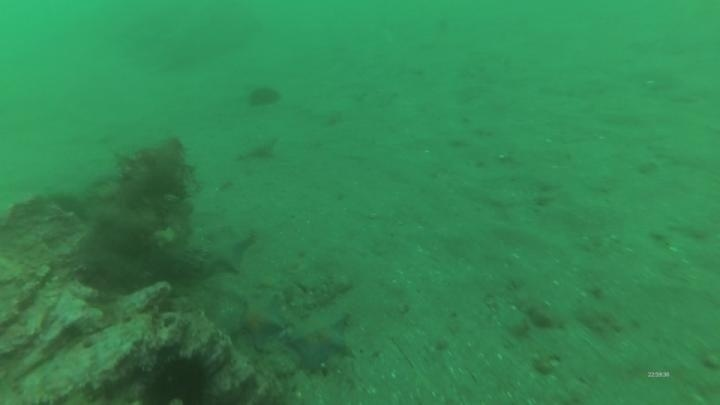echinus: (141, 348, 218, 405), (245, 82, 283, 111)
holothurian: (287, 271, 354, 312)
starfish: (283, 306, 356, 374), (233, 293, 288, 351), (199, 225, 256, 278)
